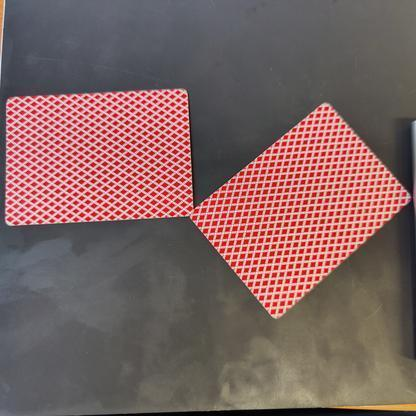card: (194, 97, 416, 328), (1, 83, 201, 230)
